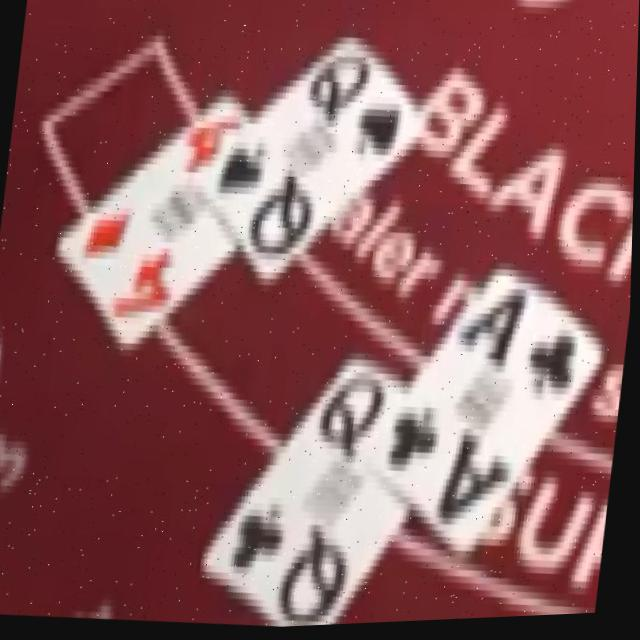Card-4: (57, 95, 253, 345)
Card-A: (370, 275, 603, 556)
Card-Q: (197, 31, 427, 288), (209, 357, 413, 629)
